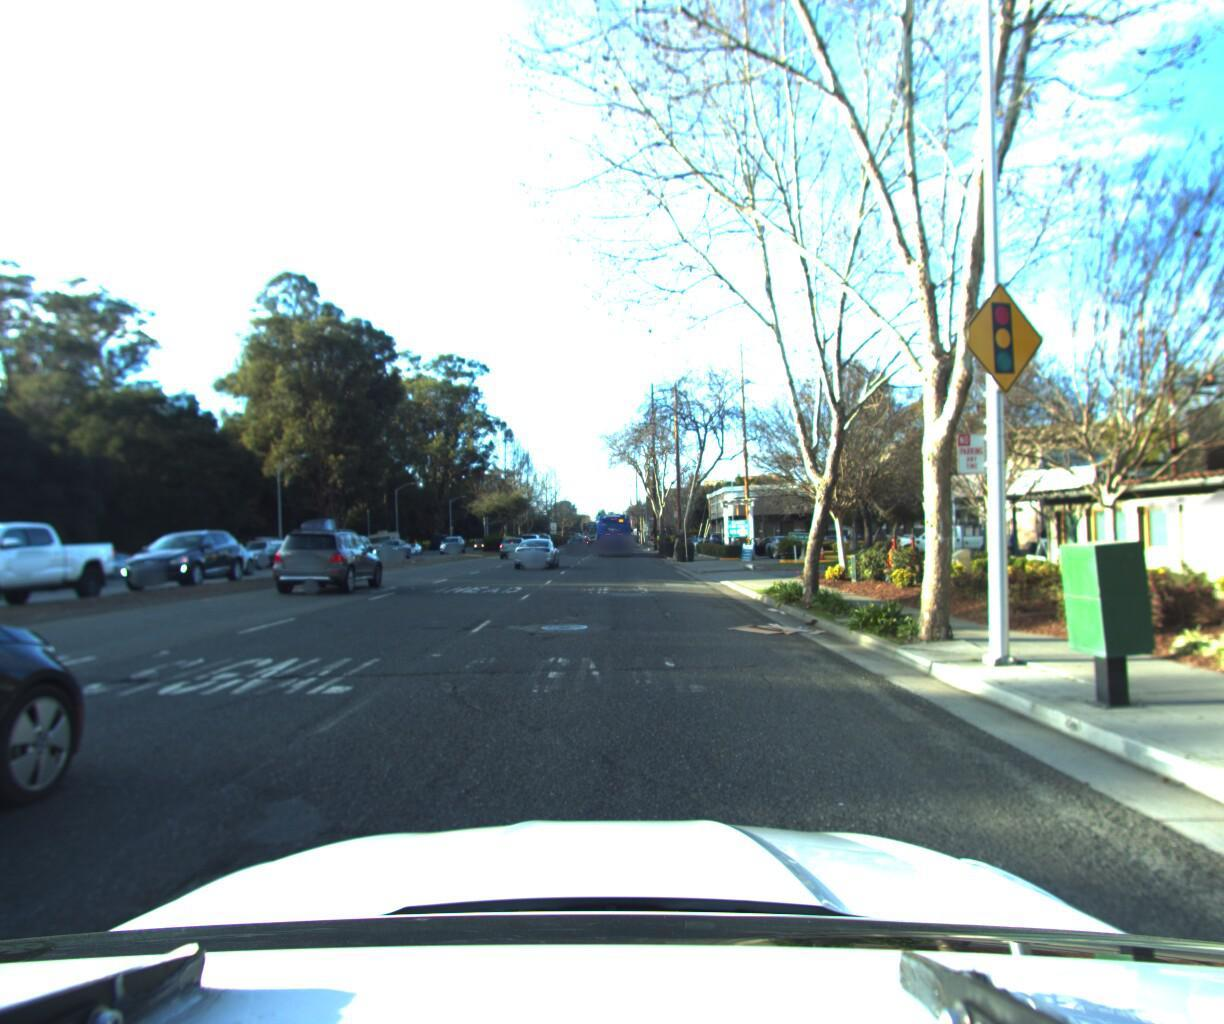bus: (593, 503, 631, 554)
car: (116, 528, 250, 598), (268, 529, 387, 598), (888, 514, 1014, 555), (164, 540, 265, 583), (63, 552, 143, 586), (237, 536, 294, 570), (513, 529, 560, 569), (223, 543, 287, 573), (369, 536, 414, 560), (492, 532, 524, 557), (435, 533, 465, 552), (533, 528, 557, 549), (564, 530, 586, 548)
truck: (281, 517, 352, 565)
